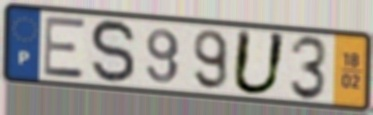3: (289, 33, 329, 102)
9: (192, 28, 230, 92), (144, 27, 181, 84)
E: (42, 15, 87, 81)
S: (88, 17, 138, 86)
U: (229, 27, 290, 98)
